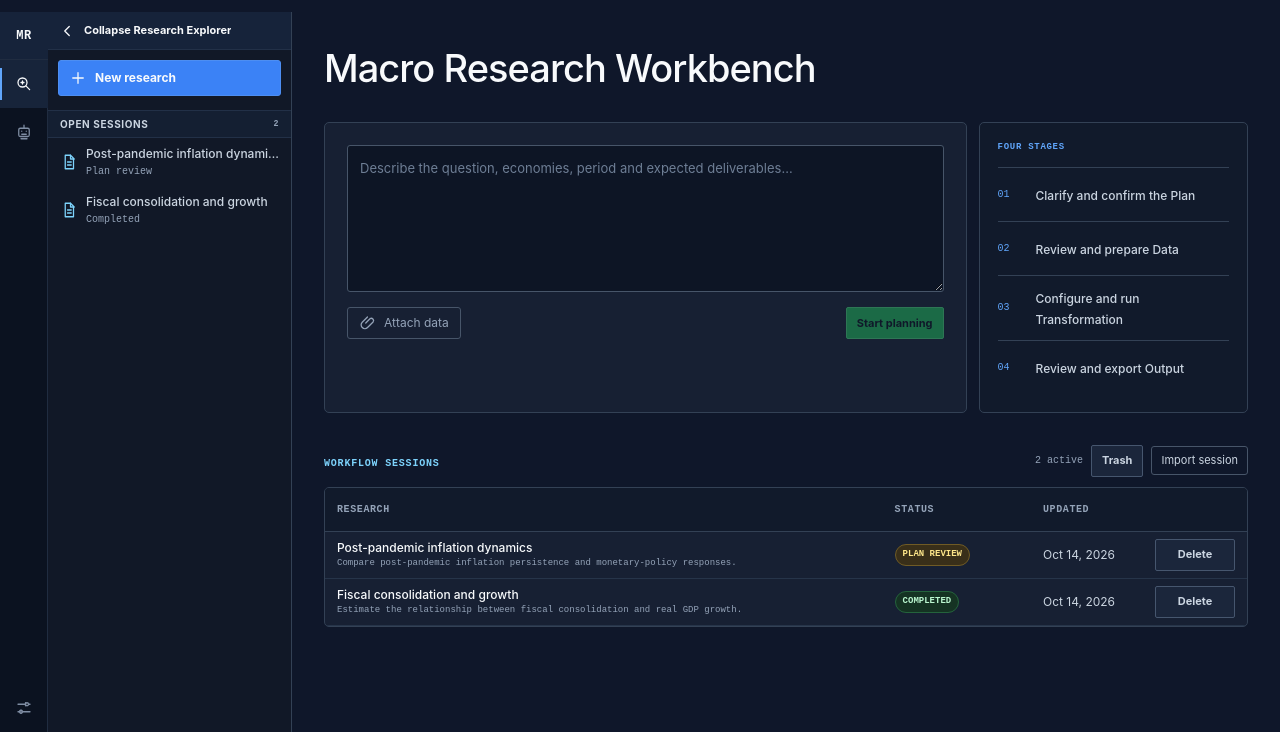
Test case: Macro Research Agent interfaces › creates a Workflow session directly in Plan clarification
Replace the text in the text box named "Research request" with "Compare inflation and policy rates across three economies." at (645, 218), box [347,145,944,292]
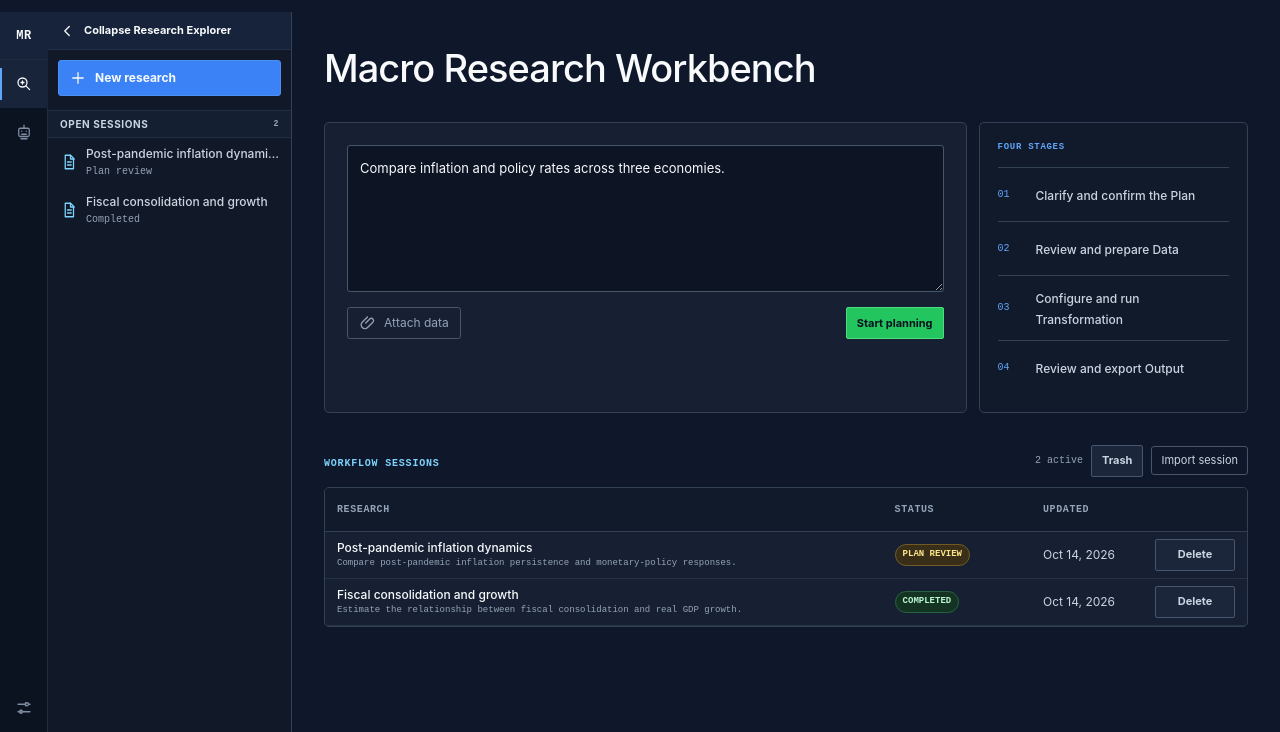
Click the button "Start planning".
click(895, 323)  # box [846,307,944,339]
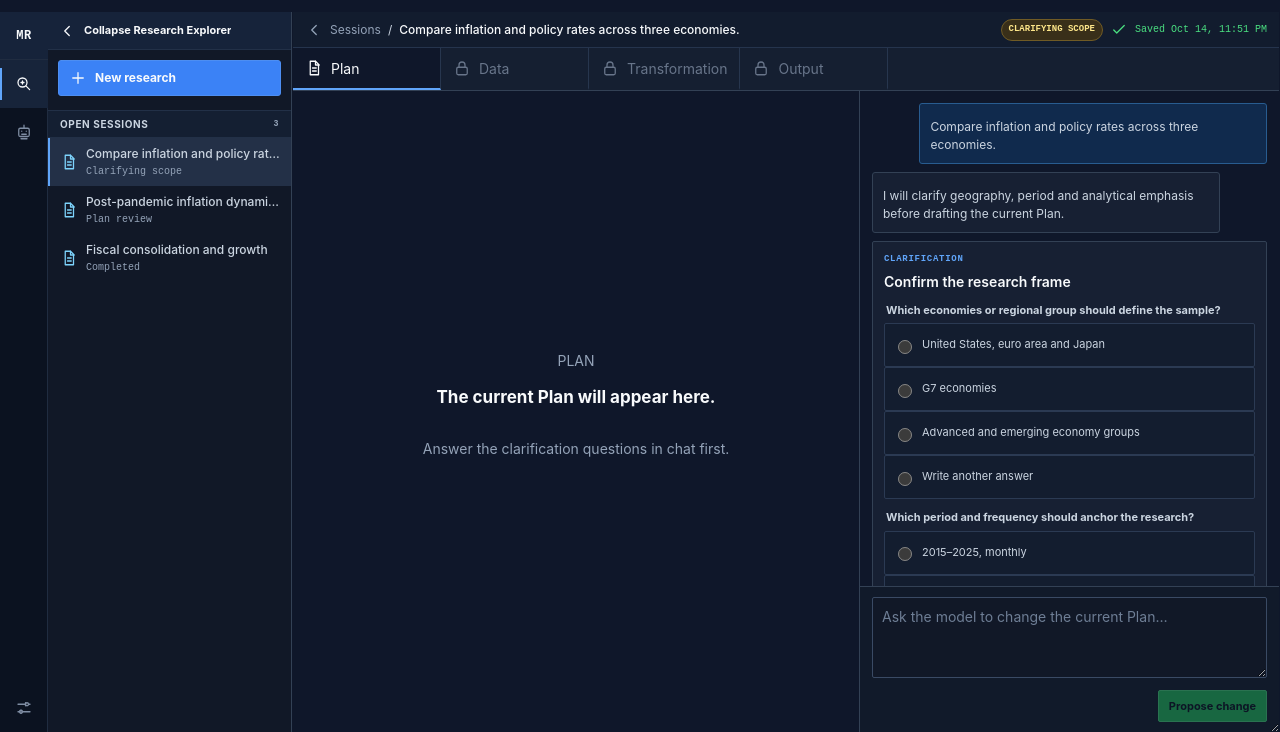
Expected: the heading "Confirm the research frame" is shown, [884,272,1071,290]
Expected: the text "Which economies or regional group should define the sample?" is shown, [884,302,1223,318]
Expected: the element named "Plan conversation" is shown, [859,91,1279,731]
